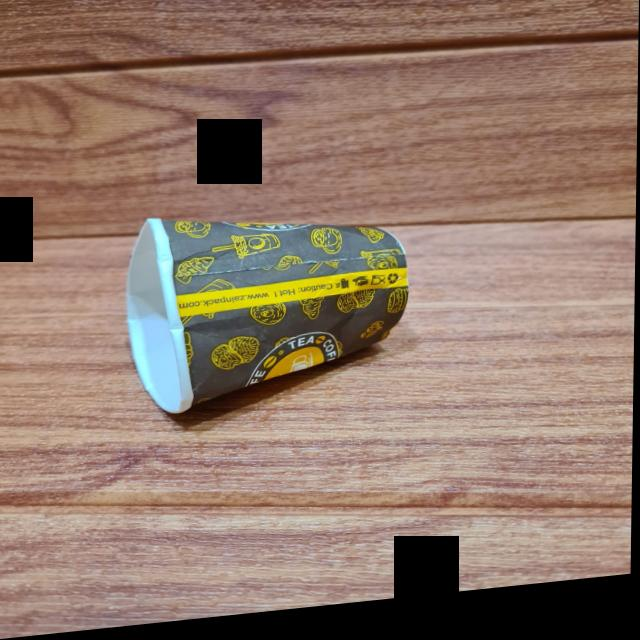cups: (109, 201, 410, 422)
